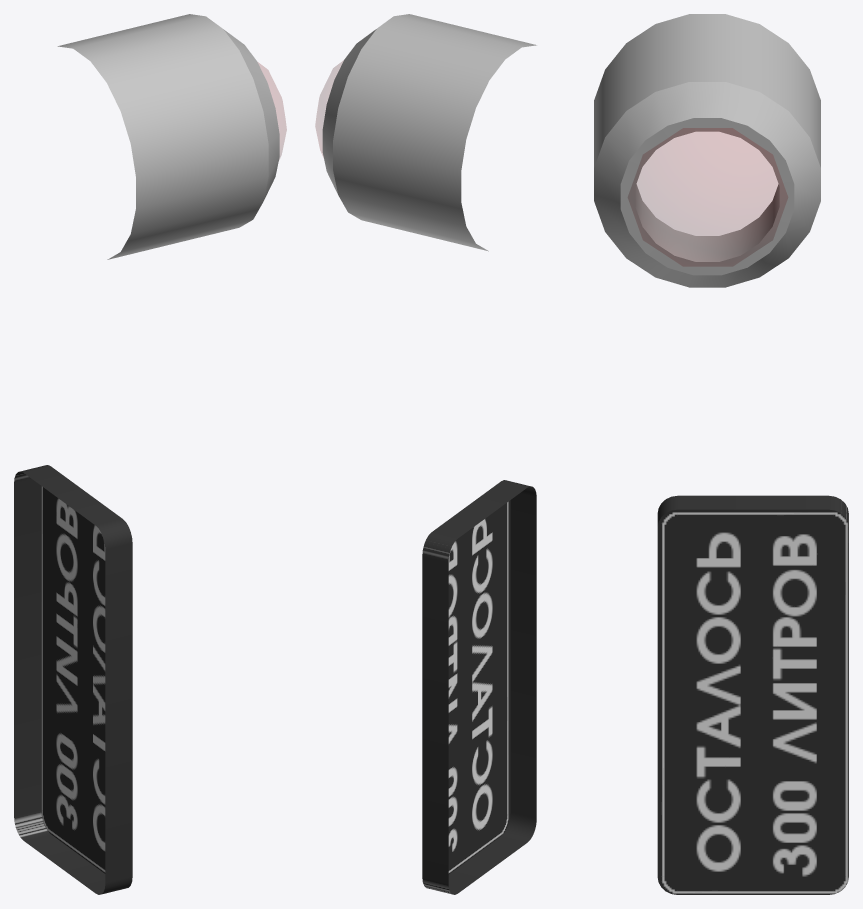
Rendered from MiG-15bis-Fuellamp.gltf.
3 renders of one model, left to right at view 1: azimuth 30°, elevation 25°; view 2: azimuth 150°, elevation 25°; view 3: azimuth 270°, elevation 25°, orthographic. The views are drawn at different scales.
Parts seen in each view (by area): view 1: FU_Message, FU_Base, FU_Glass; view 2: FU_Message, FU_Base, FU_Glass; view 3: FU_Message, FU_Base, FU_Glass.
Boxes of the visible parts, bbox=[...] form: FU_Message: bbox=[14, 465, 132, 894]; FU_Base: bbox=[57, 14, 279, 259]; FU_Glass: bbox=[258, 62, 286, 159]; FU_Message: bbox=[422, 480, 536, 894]; FU_Base: bbox=[322, 14, 536, 251]; FU_Glass: bbox=[315, 61, 342, 156]; FU_Message: bbox=[657, 495, 848, 894]; FU_Base: bbox=[594, 14, 820, 287]; FU_Glass: bbox=[628, 128, 787, 266].
Bounding box in the file's own units: 0.0277 × 0.1132 × 0.0302.
Materials: 4 (1 with a texture image).
